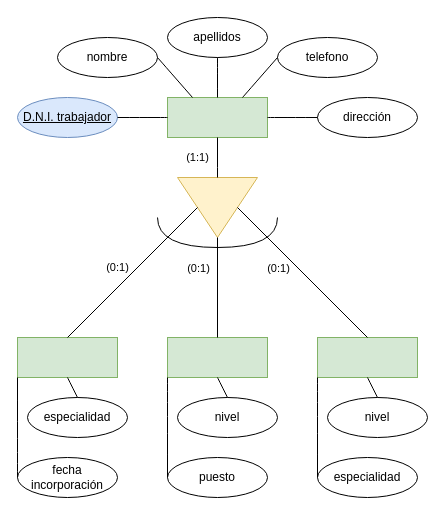
Some shapes in this 445 by 515 pixel diagram are drawn without their labels. Each missing label, with the centre of its shape:
administrativo: point (217, 357)
empleado: point (217, 117)
mantenimiento: point (367, 357)
profesor: point (67, 357)
